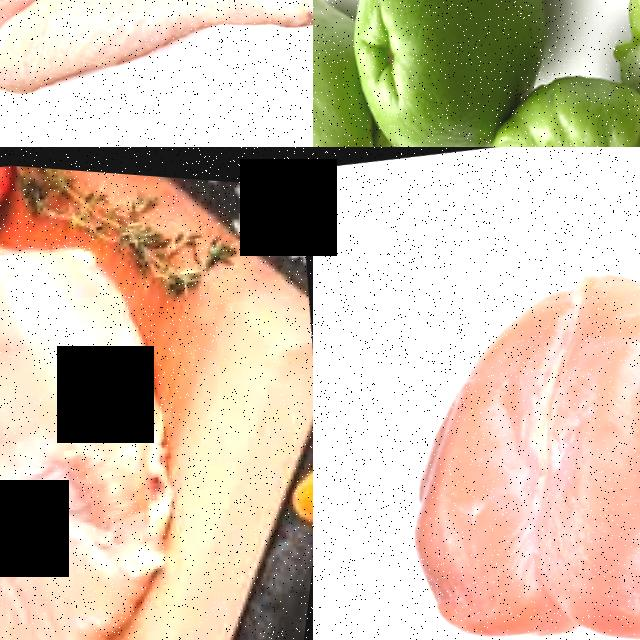chayote: (313, 0, 558, 147), (426, 67, 640, 147), (313, 0, 395, 147)
chicken breast: (0, 180, 253, 640), (354, 247, 640, 640)
chicken thigh: (0, 0, 313, 122)
